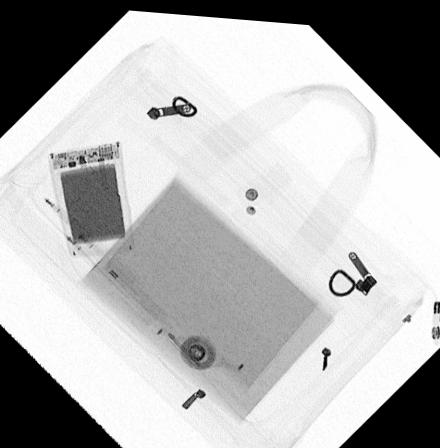Powerbank: (46, 139, 133, 256)
